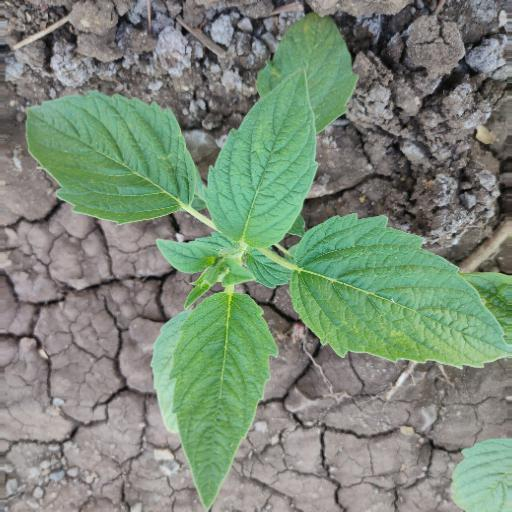crop: (14, 7, 512, 507)
